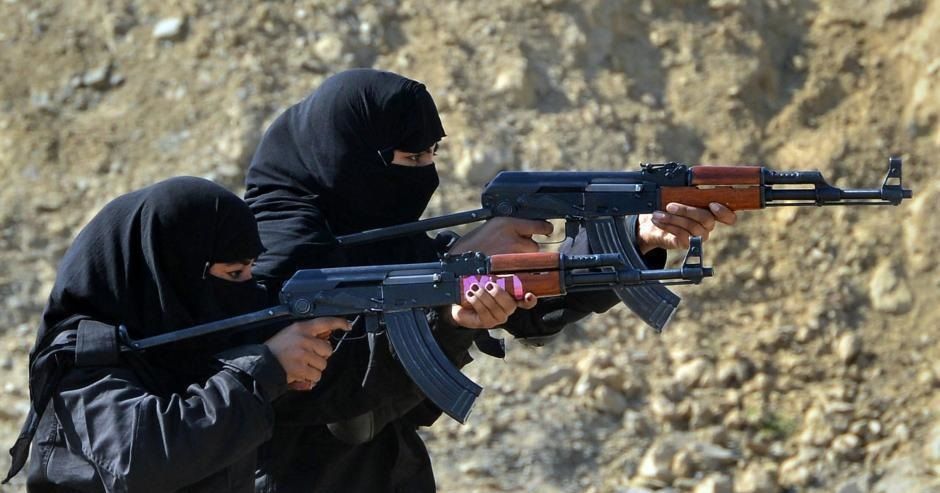face_mask: (384, 117, 446, 231), (209, 228, 260, 332)
